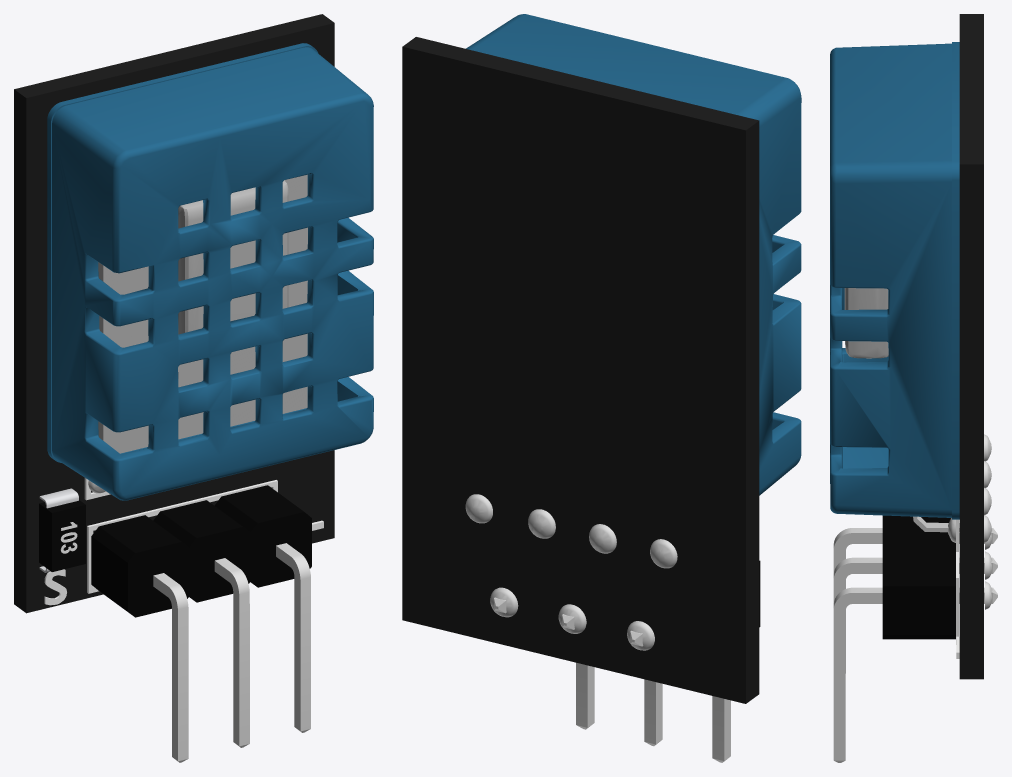
File: dht-sensor.glb
3 renders of one model, left to right at view 1: azimuth 30°, elevation 25°; view 2: azimuth 150°, elevation 25°; view 3: azimuth 270°, elevation 25°, orthographic. The views are drawn at different scales.
Parts seen in each view (by area): view 1: Plastico_azul-material, cor_placa-material, plastico_preto-material, metal_001-material, zinza-material, aluminio-material, plastico_preto_002-material, _BRANCO_008-material; view 2: cor_placa-material, Plastico_azul-material, metal_001-material; view 3: Plastico_azul-material, cor_placa-material, plastico_preto-material, metal_001-material, aluminio-material, _BRANCO_008-material, pino_metal-material.
Boxes of the visible parts, bbox=[...] form: Plastico_azul-material: bbox=[47, 43, 373, 500]; cor_placa-material: bbox=[14, 14, 334, 613]; plastico_preto-material: bbox=[91, 485, 311, 617]; metal_001-material: bbox=[88, 480, 310, 762]; zinza-material: bbox=[98, 174, 307, 453]; aluminio-material: bbox=[178, 180, 288, 334]; plastico_preto_002-material: bbox=[39, 500, 85, 571]; _BRANCO_008-material: bbox=[44, 478, 323, 605]; cor_placa-material: bbox=[402, 37, 759, 703]; Plastico_azul-material: bbox=[466, 14, 801, 495]; metal_001-material: bbox=[465, 494, 730, 762]; Plastico_azul-material: bbox=[830, 42, 959, 519]; cor_placa-material: bbox=[959, 14, 983, 679]; plastico_preto-material: bbox=[882, 515, 955, 639]; metal_001-material: bbox=[833, 434, 997, 762]; aluminio-material: bbox=[844, 288, 888, 358]; _BRANCO_008-material: bbox=[956, 519, 959, 658]; pino_metal-material: bbox=[913, 516, 959, 532].
Size of the model in its own units: 0.0133 by 0.0266 by 0.00629.
